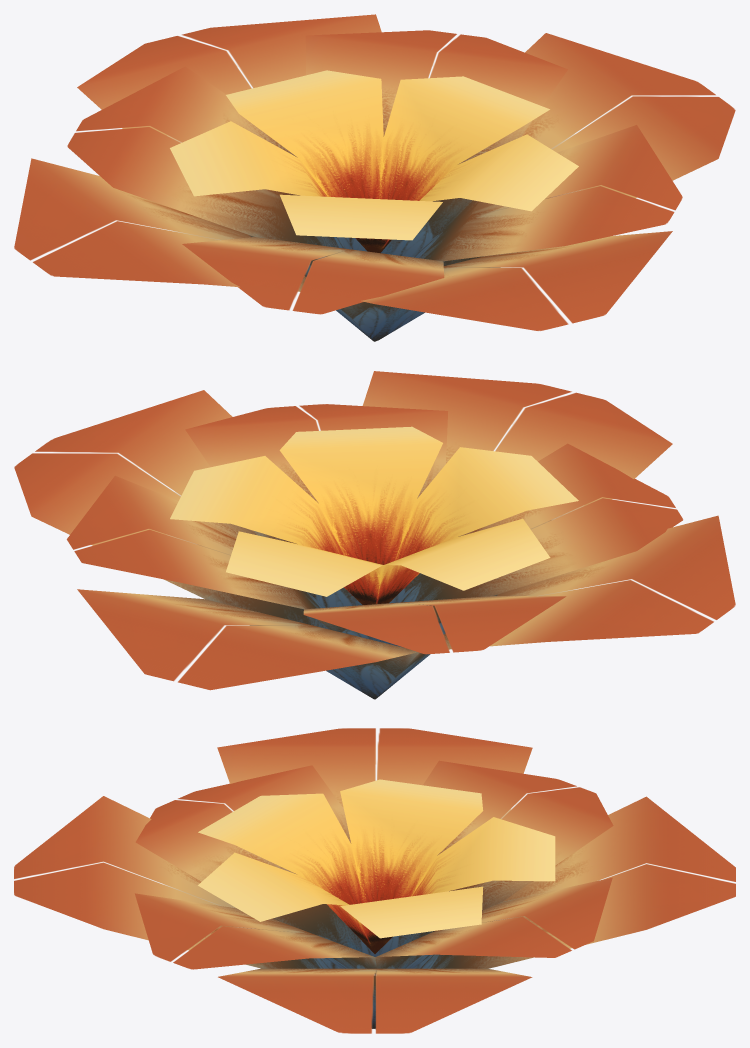
Rendered from stylized_flowers_stage3.glb.
The picture shows the model from 3 angles, top to bottom: view 1: azimuth 30°, elevation 25°; view 2: azimuth 150°, elevation 25°; view 3: azimuth 270°, elevation 25°; orthographic projection. The views are drawn at different scales.
Parts seen in each view (by area): view 1: Stage3; view 2: Stage3; view 3: Stage3.
Boxes of the visible parts, left/top/right/bottom form: Stage3: left=14, top=14, right=735, bottom=341; Stage3: left=14, top=371, right=735, bottom=699; Stage3: left=14, top=728, right=735, bottom=1033.
Bounding box in the file's own units: 2.14 × 0.5931 × 2.14.
1 material, 1 textured.
